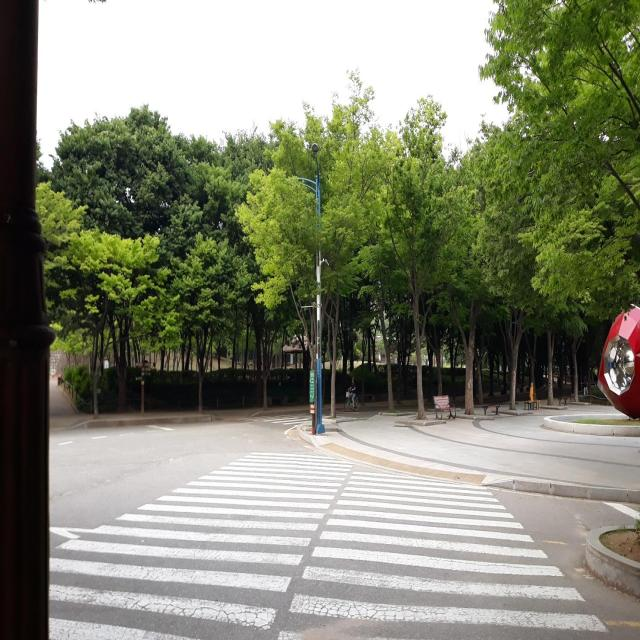횡단보도: (48, 450, 610, 640)
